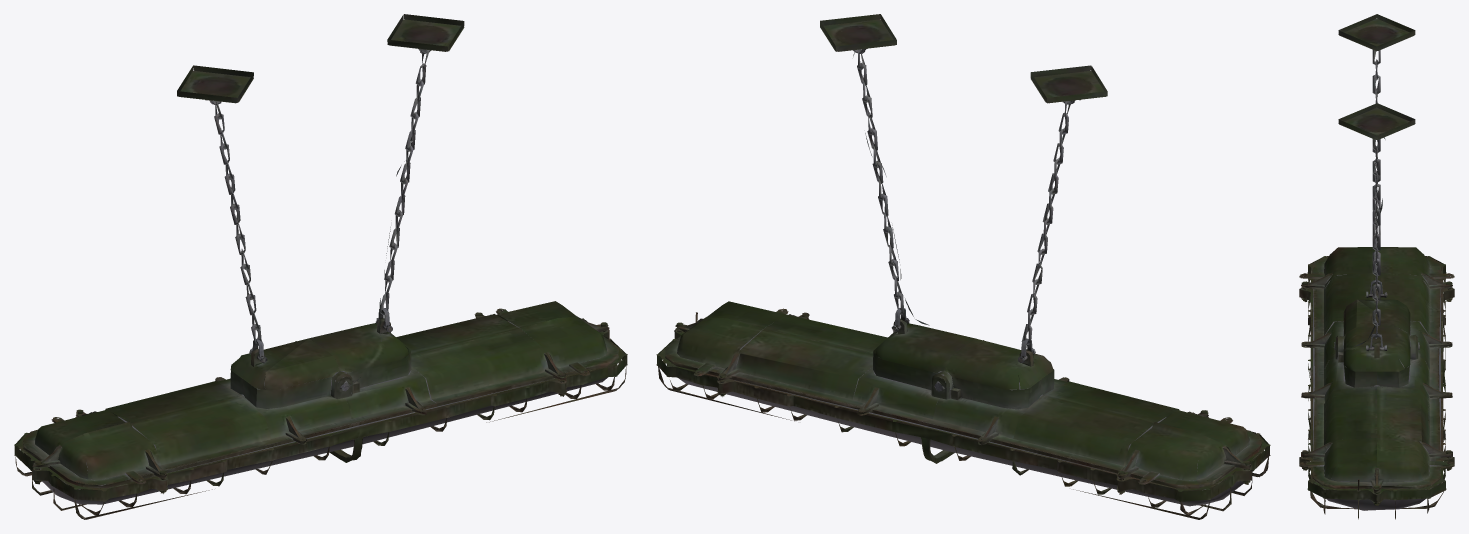
The model's file is ceiling-lamp.glb.
3 renders of one model, left to right at view 1: azimuth 30°, elevation 25°; view 2: azimuth 150°, elevation 25°; view 3: azimuth 270°, elevation 25°, orthographic. The views are drawn at different scales.
Parts seen in each view (by area): view 1: ceiling-lamp; view 2: ceiling-lamp; view 3: ceiling-lamp.
Boxes of the visible parts, <box> form: ceiling-lamp: <box>14,14,627,519</box>; ceiling-lamp: <box>656,14,1270,519</box>; ceiling-lamp: <box>1299,14,1454,519</box>.
Size of the model in its own units: 1.17 by 0.7501 by 0.3147.
1 material, 1 textured.
